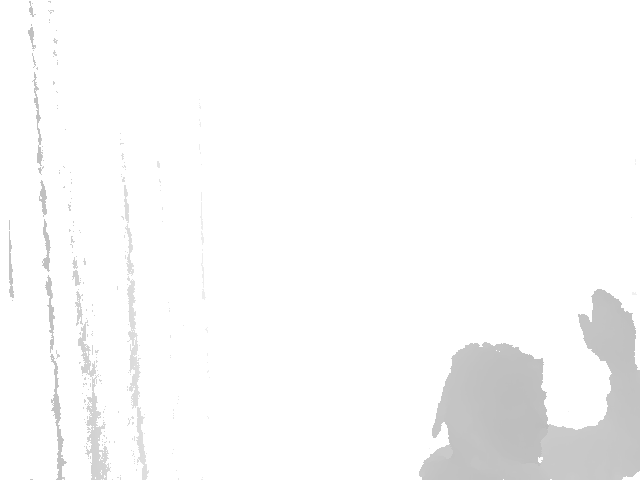hand: (572, 286, 640, 380)
head: (428, 338, 553, 459)
person: (420, 285, 640, 480)
